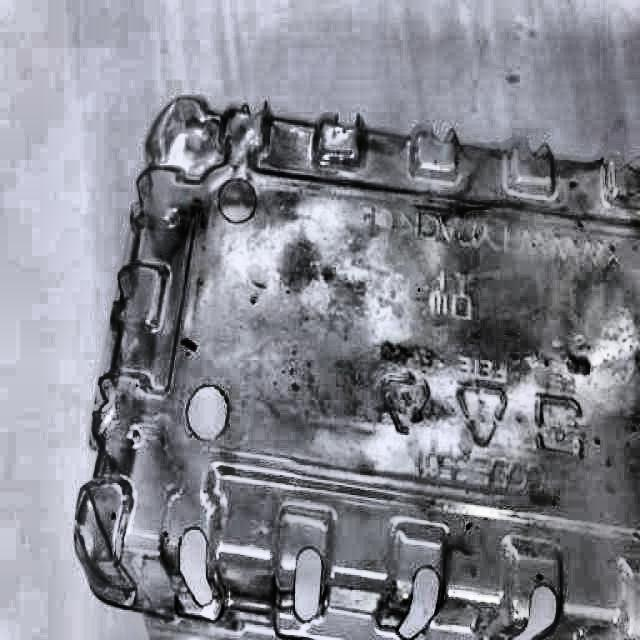plastic: (71, 95, 640, 640)
